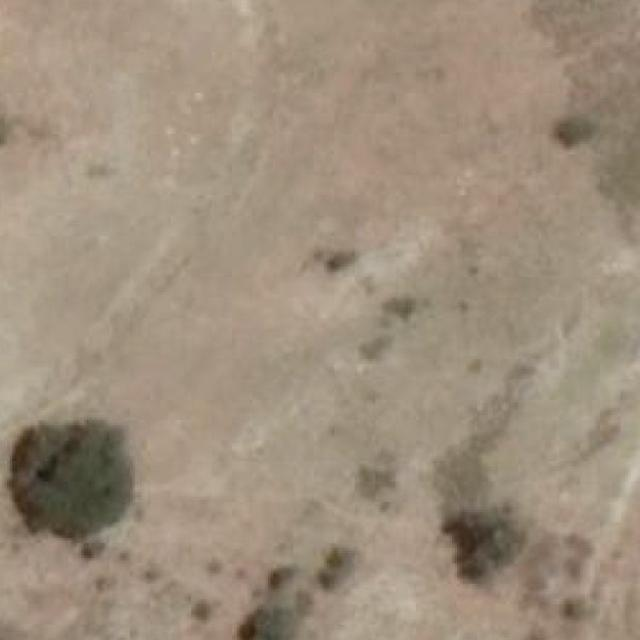Tree: (15, 428, 133, 536), (447, 509, 513, 579), (554, 108, 601, 146), (244, 609, 294, 640), (76, 533, 114, 564), (267, 557, 298, 591), (189, 597, 220, 627), (324, 541, 352, 572), (313, 565, 339, 591)
